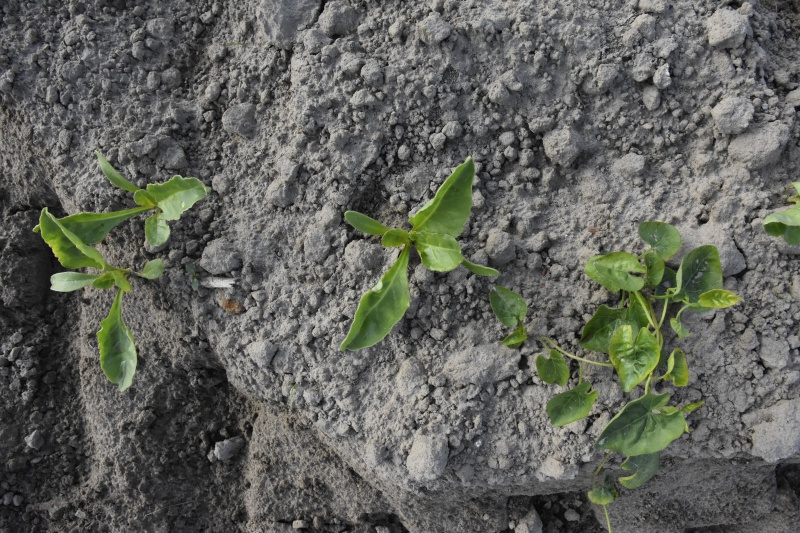field bindweed: (492, 226, 737, 525)
sugar beet: (342, 151, 496, 353), (34, 210, 173, 395), (32, 157, 204, 251)
